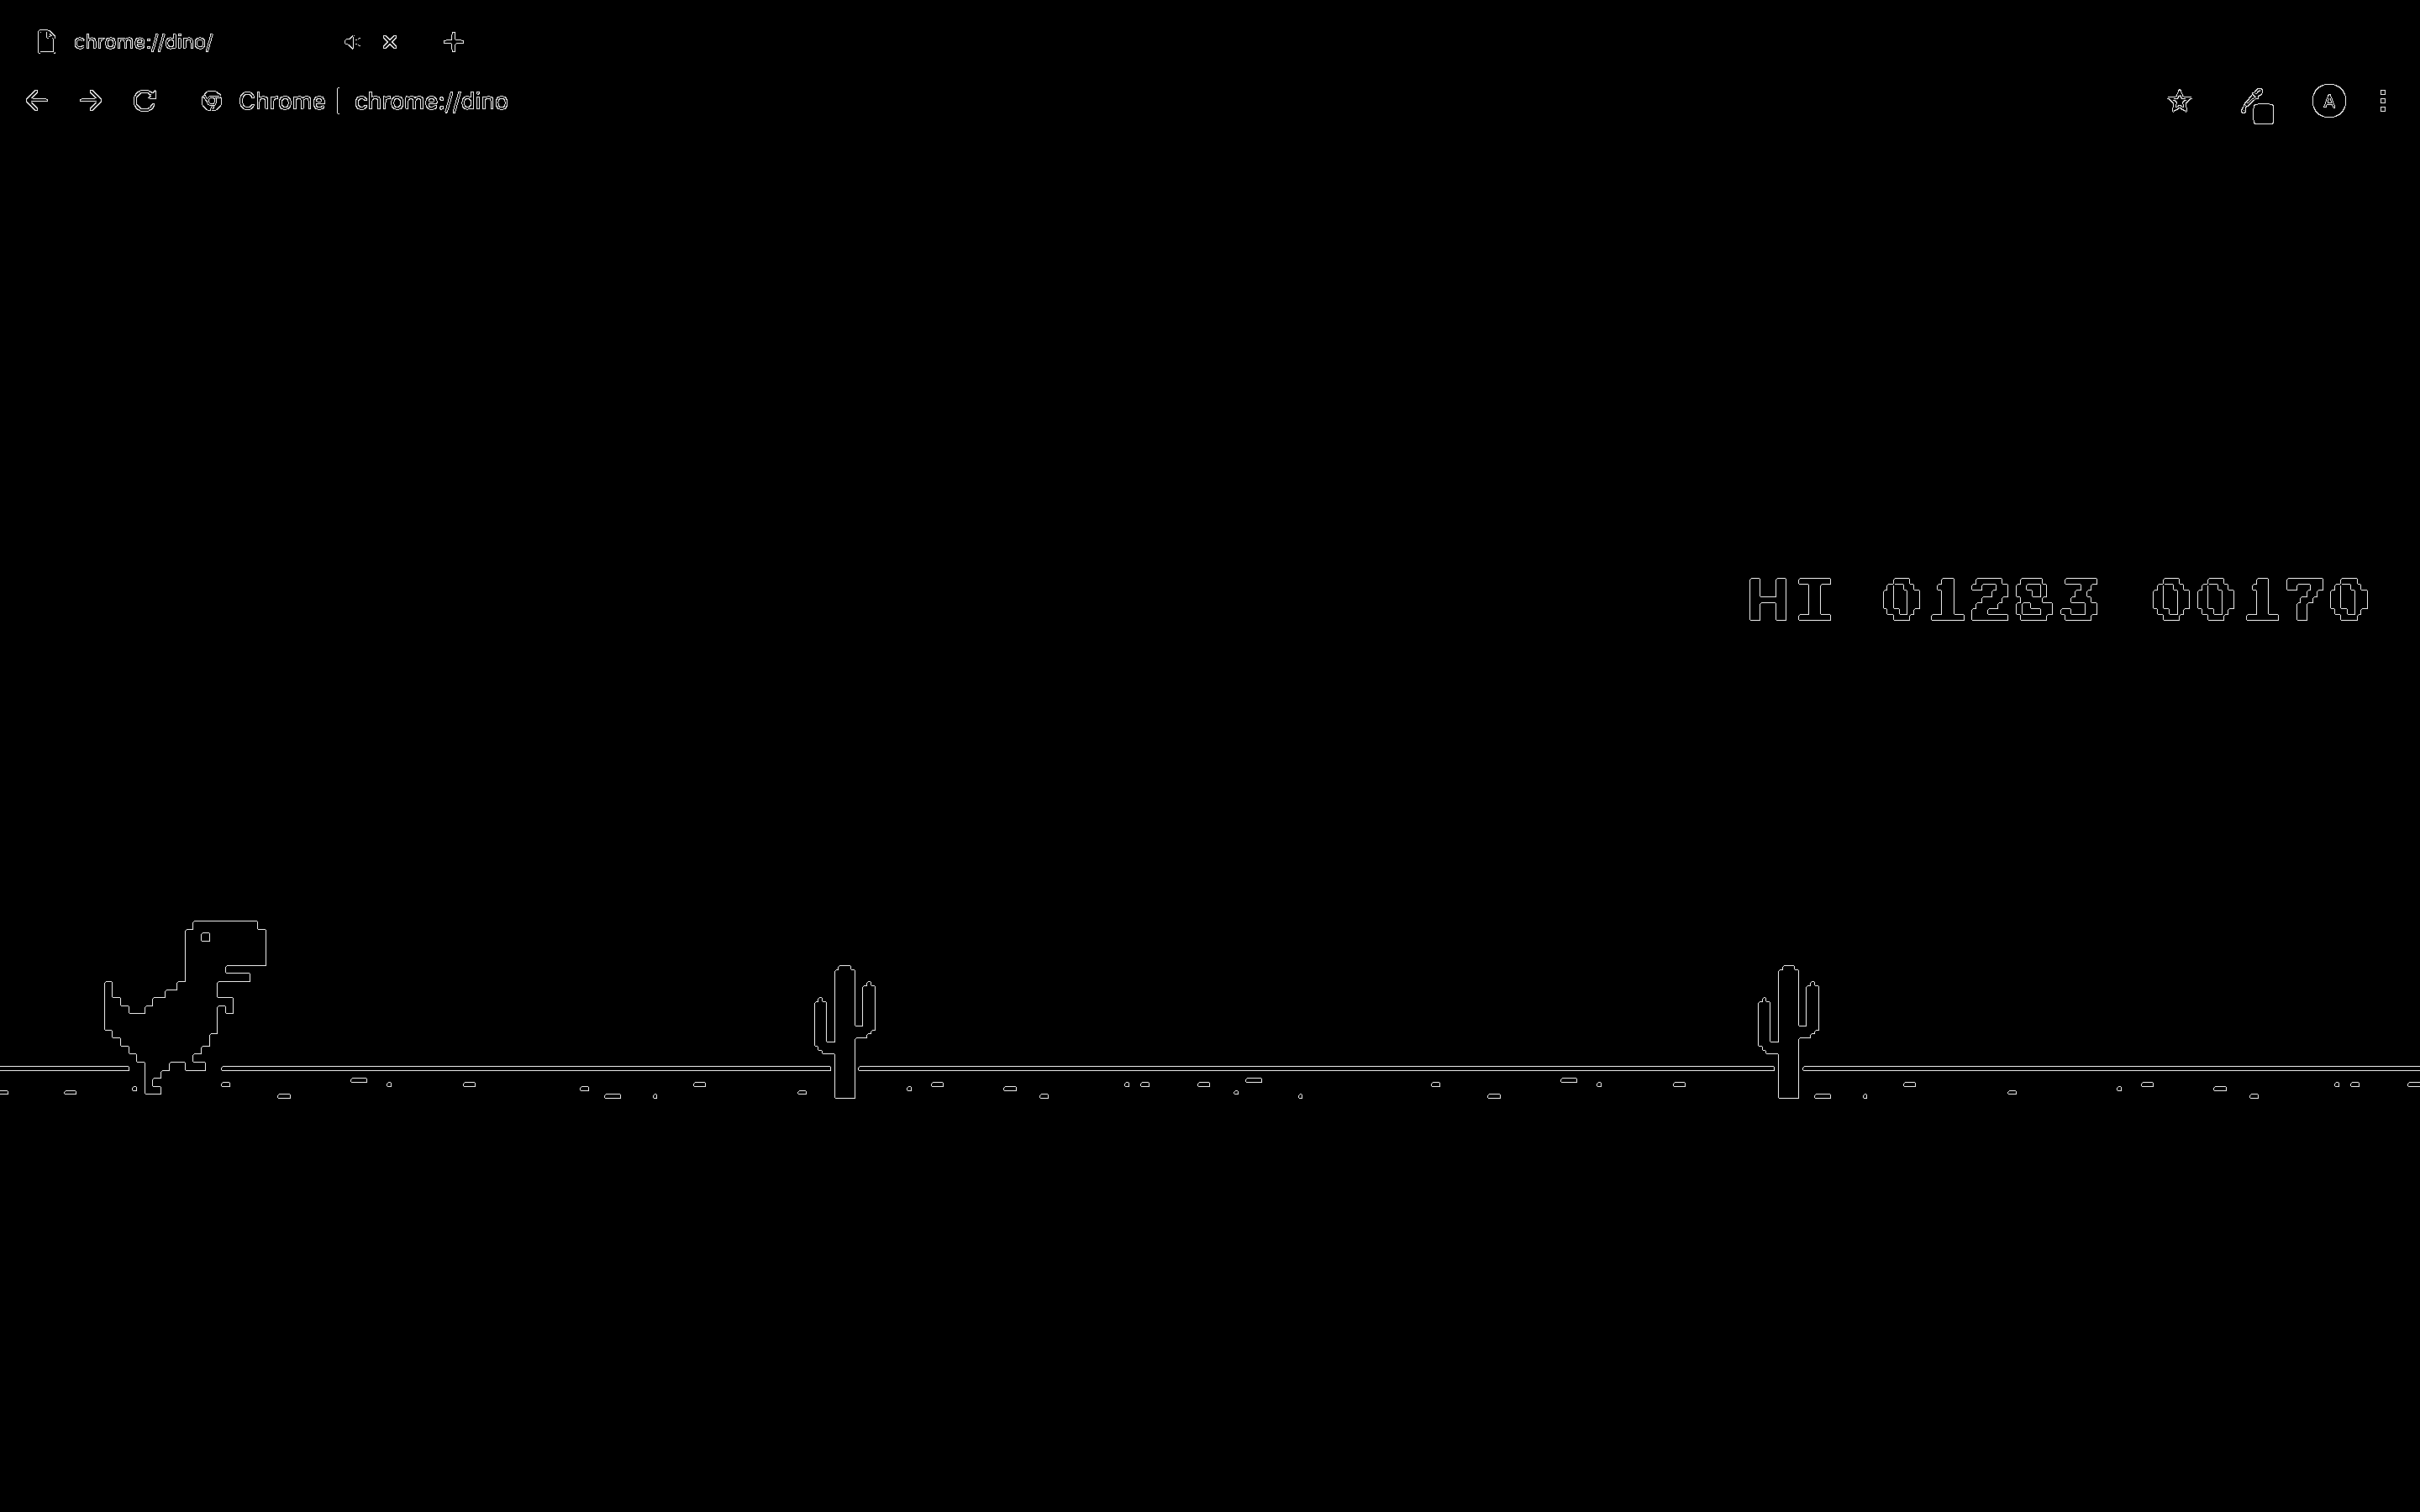Cactus: (1747, 965, 1838, 1103), (812, 963, 883, 1103)
Dino: (103, 916, 272, 1096)
